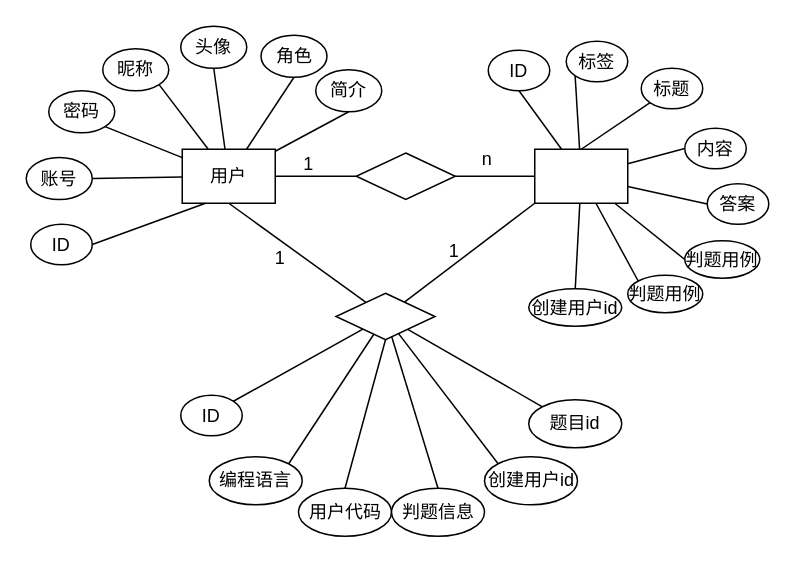
Image size: 795x563. Some labels were removed from this diagram. Each missing label, with the box of its shape:
创建: (355, 152, 455, 200)
提交: (334, 292, 435, 340)
题目: (533, 148, 628, 203)
